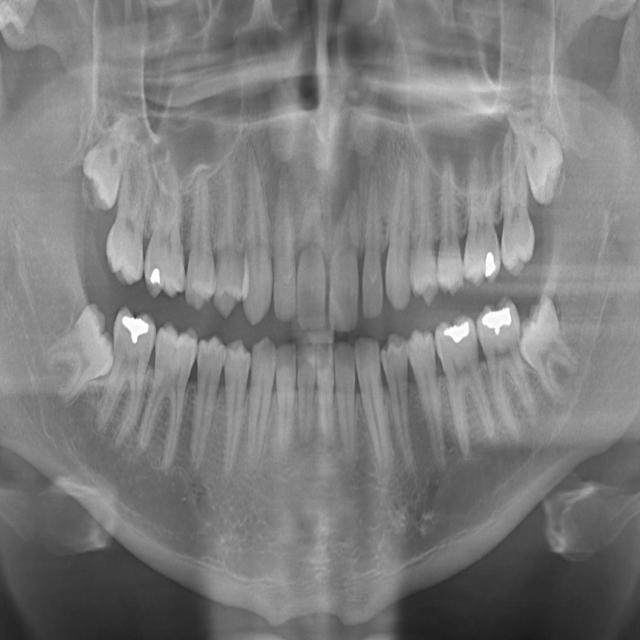3M ESPE Implant: (69, 102, 146, 214)
AGS Medikal Implant: (472, 294, 542, 445)
AMerOss Implant: (431, 312, 499, 463)
Amalgam filling: (131, 152, 139, 198)
Anthogyr Implant: (405, 325, 453, 473)
Bicon Implant: (379, 331, 420, 479)
BioHorizons Implant: (353, 333, 395, 476)
BioLife Implant: (333, 339, 360, 462)
Biomet 3i Implant: (315, 341, 337, 446)
Blue Sky Bio Implant: (298, 341, 316, 451)
Camlog Implant: (276, 341, 296, 462)
Caries: (359, 168, 383, 318)
Composite filling: (243, 336, 277, 478)
Cowellmedi Implant: (211, 339, 254, 485)
Crown: (180, 331, 227, 476)
DENTSPLY Implant: (156, 163, 174, 214)
Dentatus Implant: (133, 320, 201, 472)
Dentis Implant: (91, 304, 160, 455)
Dentium Implant: (23, 301, 134, 407)
Euroteknika Implant: (183, 174, 222, 313)
Filling: (213, 159, 254, 320)
Frontier Implant: (243, 141, 274, 325)
Hiossen Implant: (385, 143, 411, 311)
Implant: (296, 184, 329, 331)
Implant Direct: (269, 163, 297, 322)
Keystone Dental Implant: (328, 188, 359, 333)
MIS Implant: (400, 156, 440, 307)
Mandible: (426, 156, 465, 296)
Maxilla: (463, 141, 502, 286)
Megagen Implant: (500, 128, 538, 275)
Neodent Implant: (519, 111, 531, 127)
Neoss Implant: (502, 292, 593, 412)
